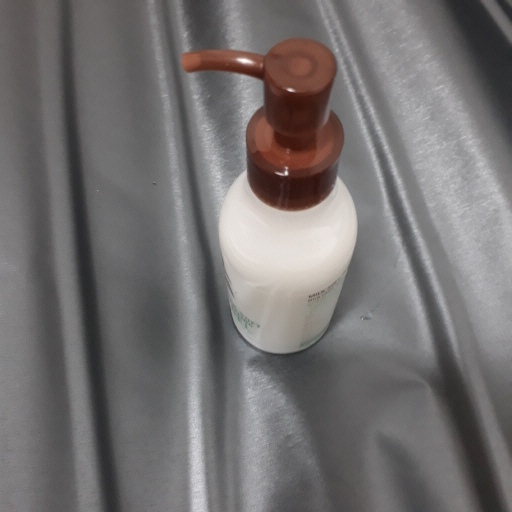Plastic_3: (183, 35, 359, 355)
